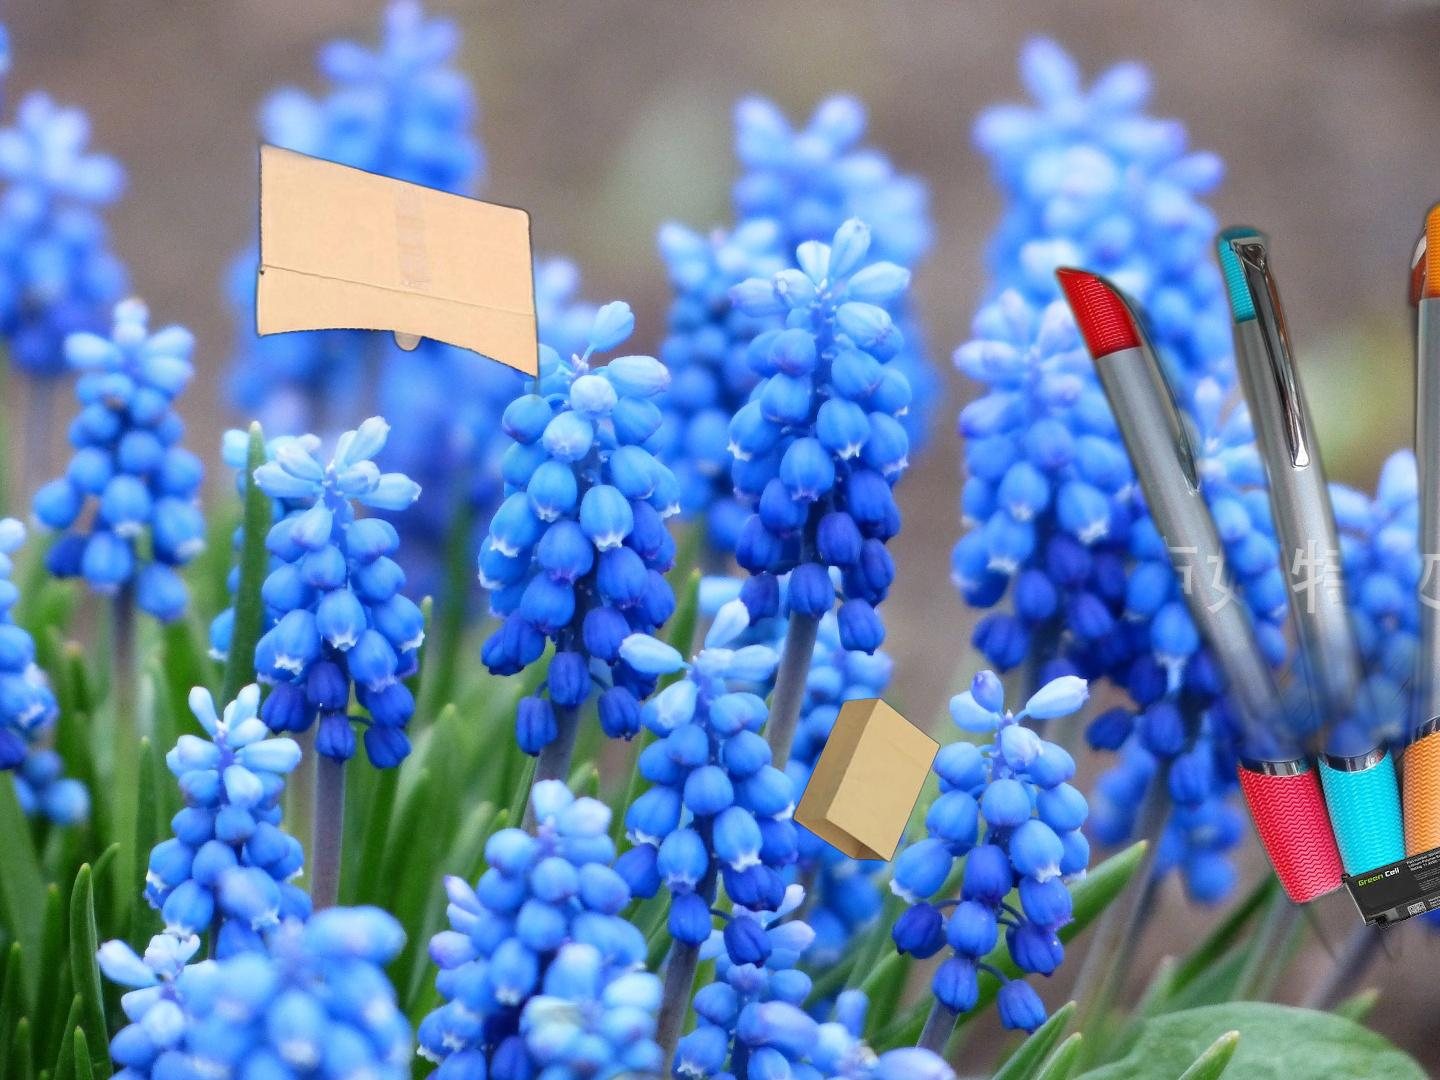battery: (1339, 798, 1440, 933)
paper-bag: (790, 697, 943, 863)
penholder: (1045, 104, 1440, 1002)
trashbox-cardboard: (90, 127, 548, 625), (276, 1005, 842, 1080)
